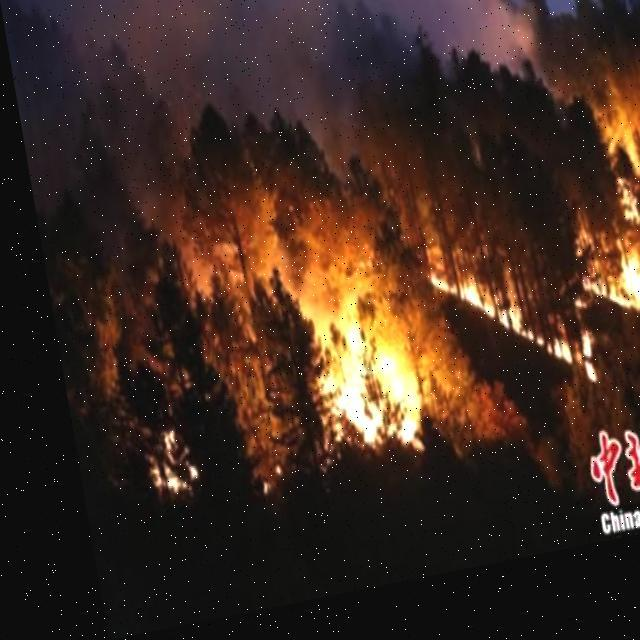Fire: (408, 228, 580, 430), (278, 288, 419, 483), (557, 177, 639, 374), (120, 422, 188, 504)
